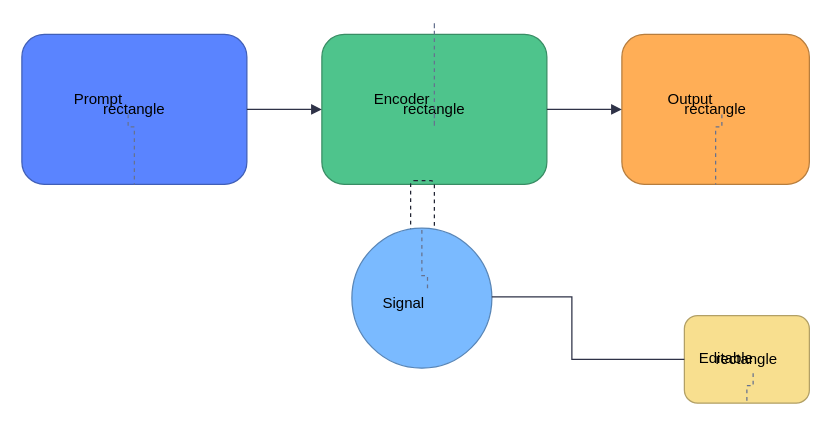
Image size: 831x426. Some labels were removed from this diagram. Here are the shapes that lost their labels. From the top down, the box of each, then its label:
(409, 179, 434, 232): region
(351, 227, 492, 368): ellipse
